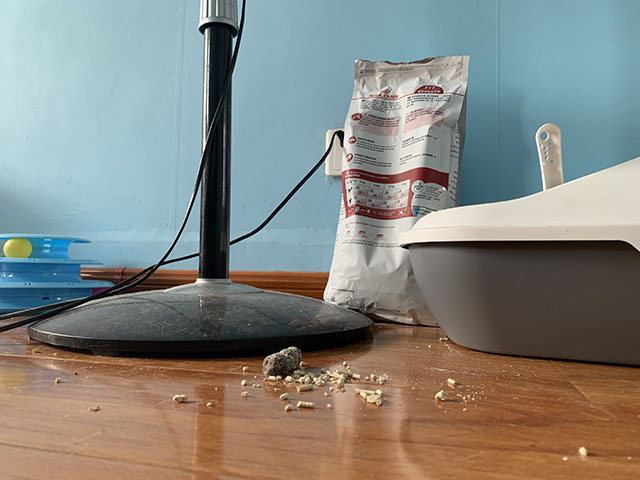feces: (261, 346, 302, 377)
wire: (1, 1, 344, 333)
